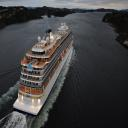cruises: (14, 17, 76, 116)
